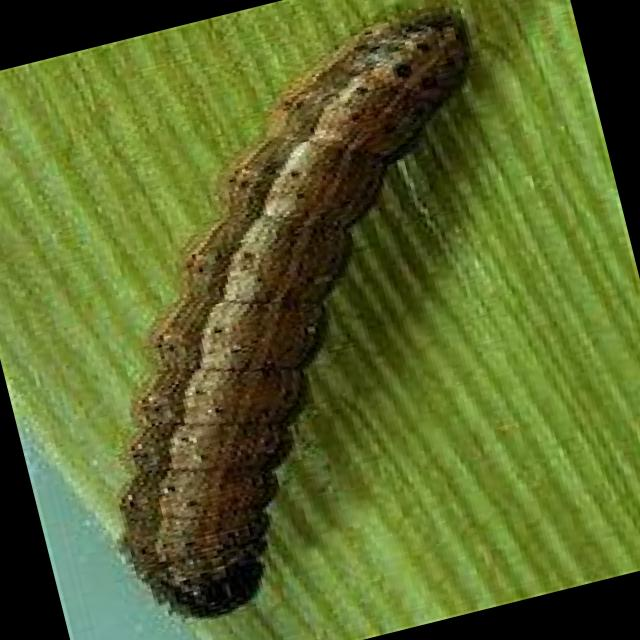armyworm: (7, 1, 610, 640)
